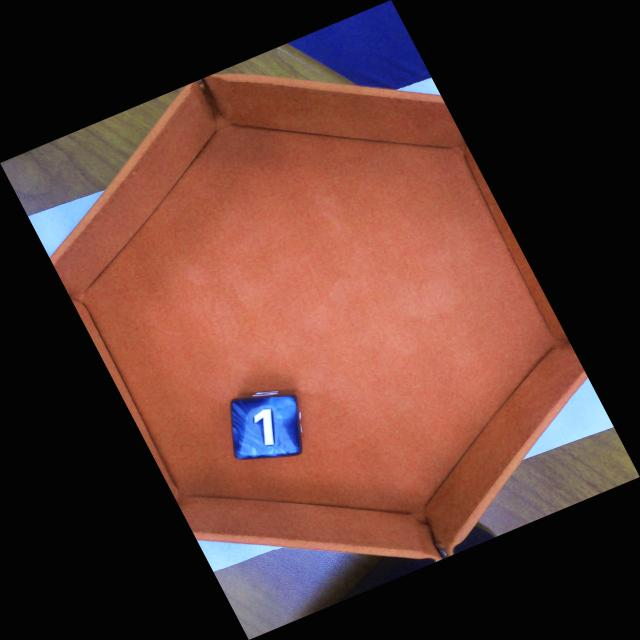dice: (230, 394, 303, 460)
